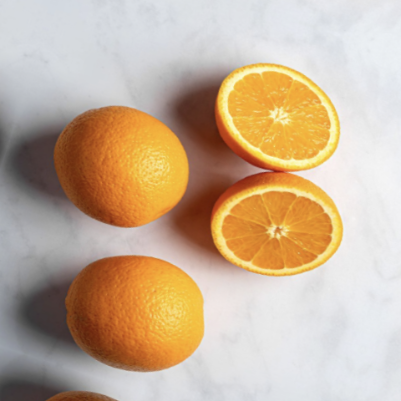orange: (45, 223, 228, 397), (37, 79, 212, 253)
